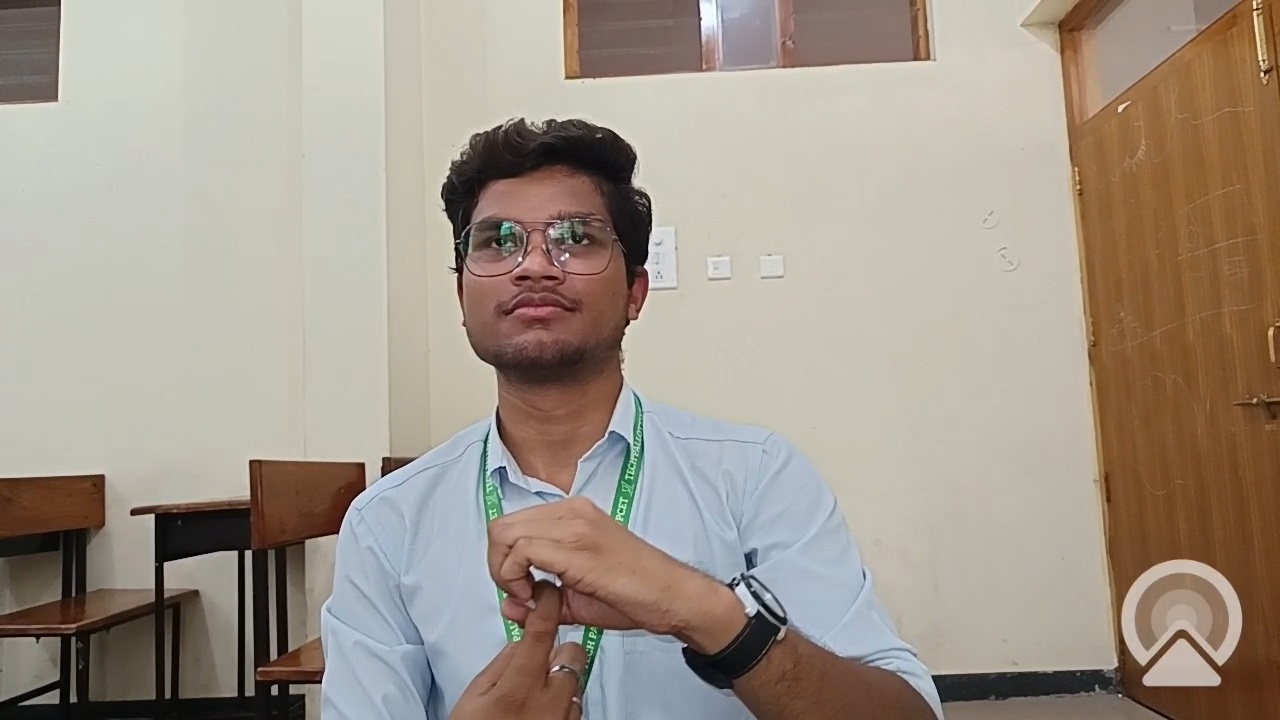Q: (412, 475, 774, 720)
